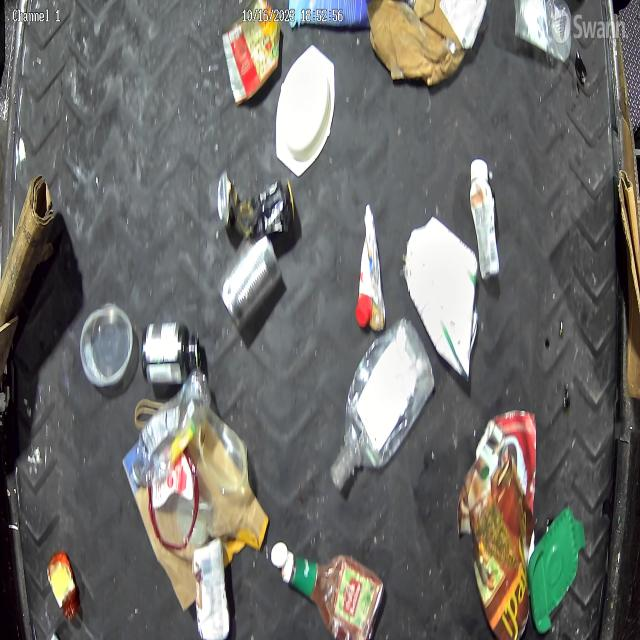can: (223, 0, 281, 107), (218, 235, 282, 330), (217, 172, 296, 239), (193, 537, 230, 640), (514, 0, 572, 63)
plastic_bottle: (331, 316, 436, 492), (133, 369, 211, 488)
